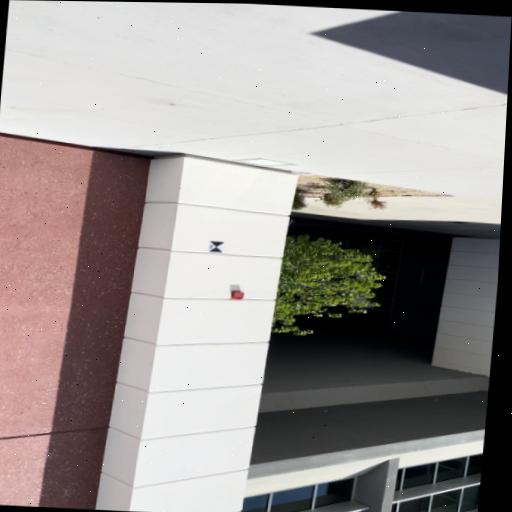target2: (207, 240, 224, 252)
